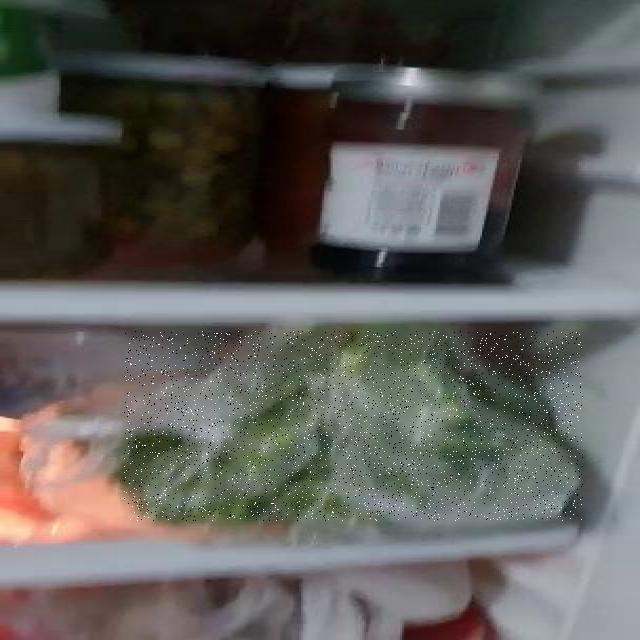lettuce: (124, 331, 583, 521)
